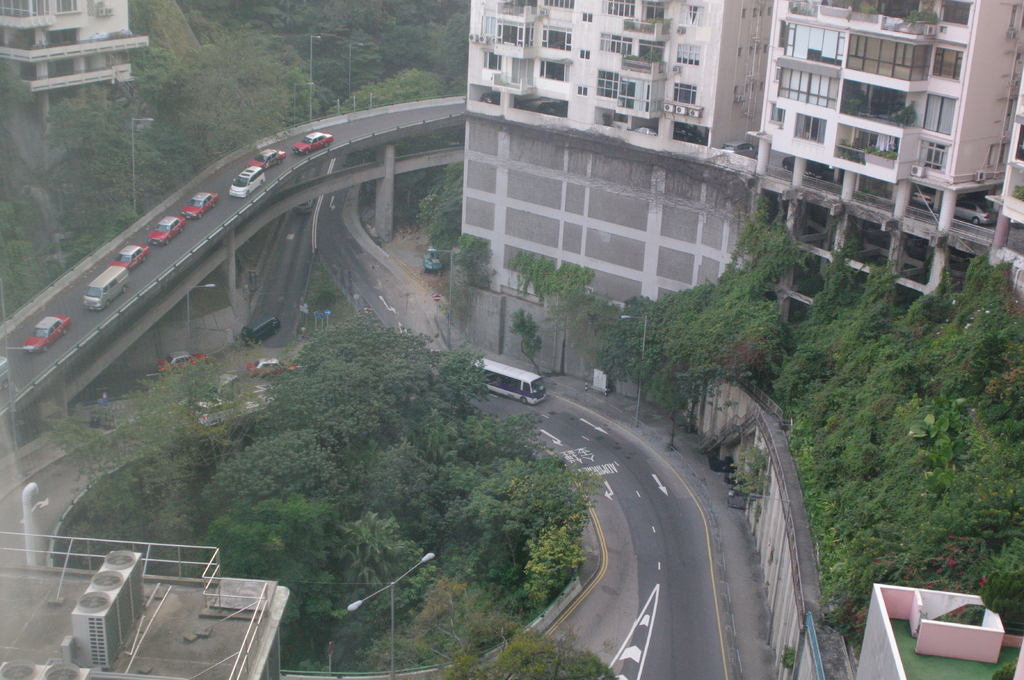Bus: (470, 357, 545, 404)
